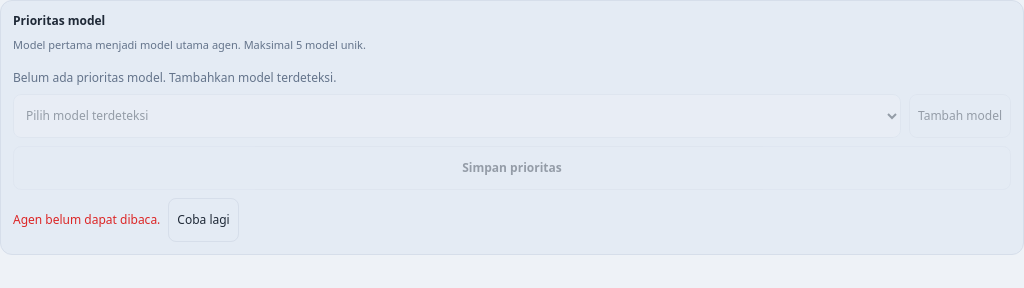
Scenario: ModelPriorityEditor › blocks editing after a failed load until retry succeeds
Expected: the dropdown is disabled, [13,94,901,138]
What coordinates should you click on to do the following:
click the button "Coba lagi"
I would click on:
 (204, 220)
Its box is [168,198,239,242].
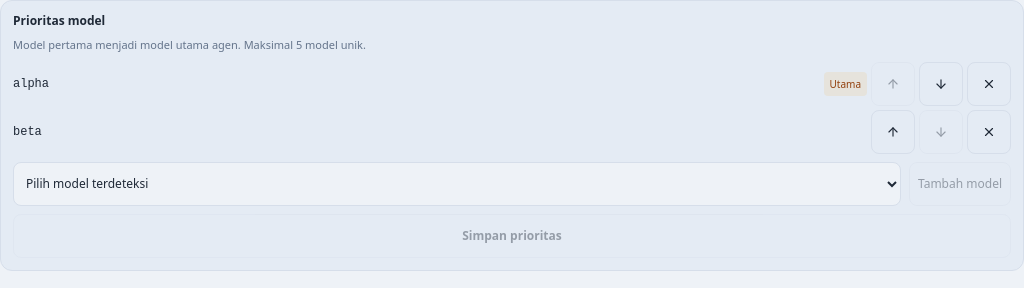
Expected: the text "alpha" is shown, [13,76,49,90]
Expected: the dropdown is enabled, [13,162,901,206]
